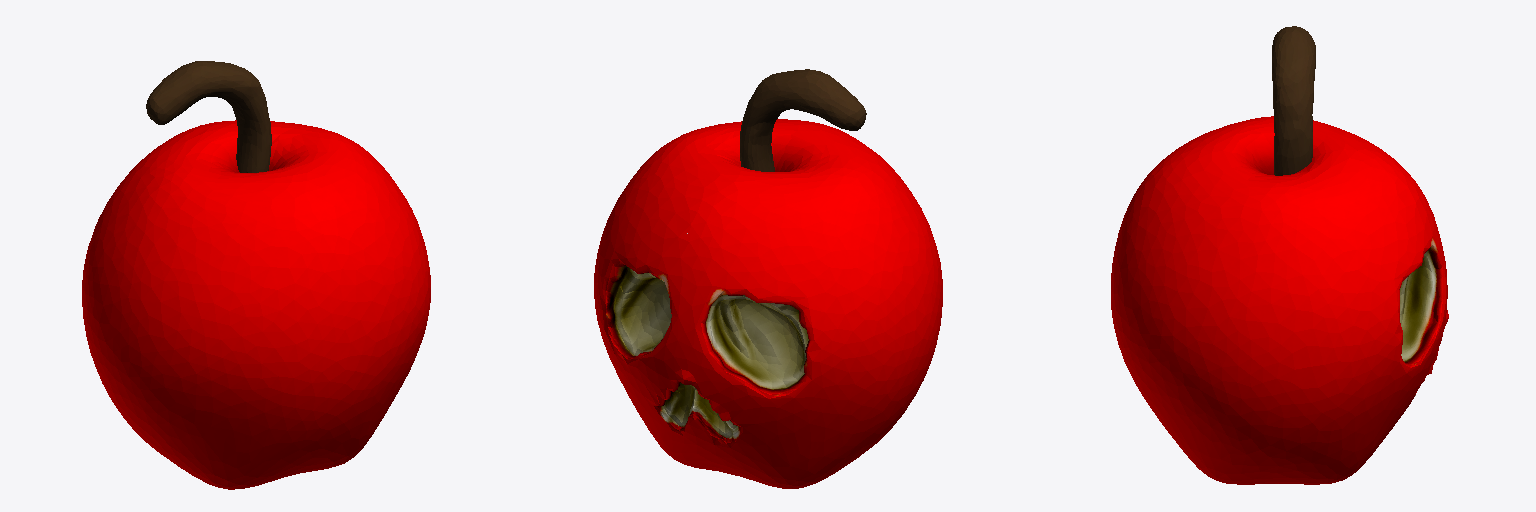
3 views of the same model, side by side, from view 1: azimuth 30°, elevation 25°; view 2: azimuth 150°, elevation 25°; view 3: azimuth 270°, elevation 25° (orthographic).
Visible parts, largest first — view 1: Group40557_Group40557.001, Group44309_Group44309.001; view 2: Group40557_Group40557.001, Group44309_Group44309.001; view 3: Group40557_Group40557.001, Group44309_Group44309.001.
Boxes of the visible parts, x1,y1,x2,y2 form: Group40557_Group40557.001: [82, 120, 430, 489]; Group44309_Group44309.001: [146, 61, 271, 172]; Group40557_Group40557.001: [594, 119, 942, 488]; Group44309_Group44309.001: [740, 69, 866, 171]; Group40557_Group40557.001: [1111, 116, 1448, 484]; Group44309_Group44309.001: [1272, 26, 1315, 175].
Size of the model in its own units: 1.31 by 1.65 by 1.26.
Materials: 2 (2 with a texture image).